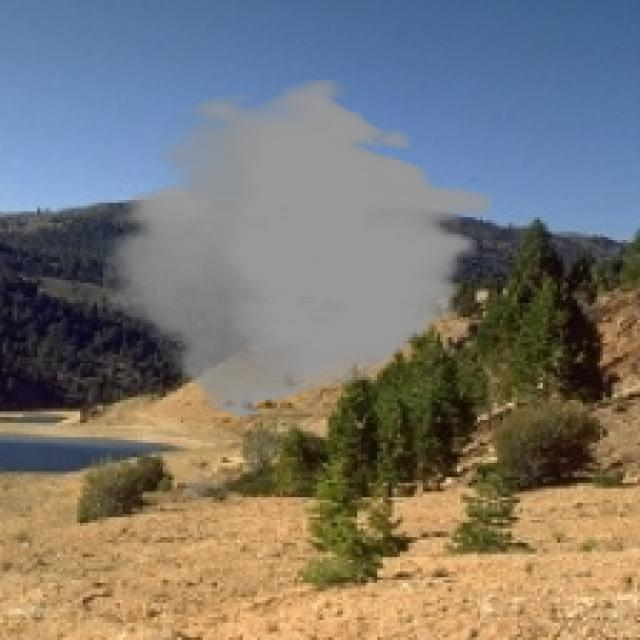smoke: (103, 77, 491, 420)
